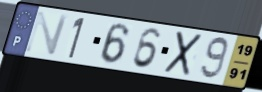1: (68, 17, 87, 60)
6: (99, 22, 132, 67), (131, 27, 164, 71)
9: (197, 36, 230, 82)
N: (22, 10, 71, 57)
X: (161, 30, 205, 78)
